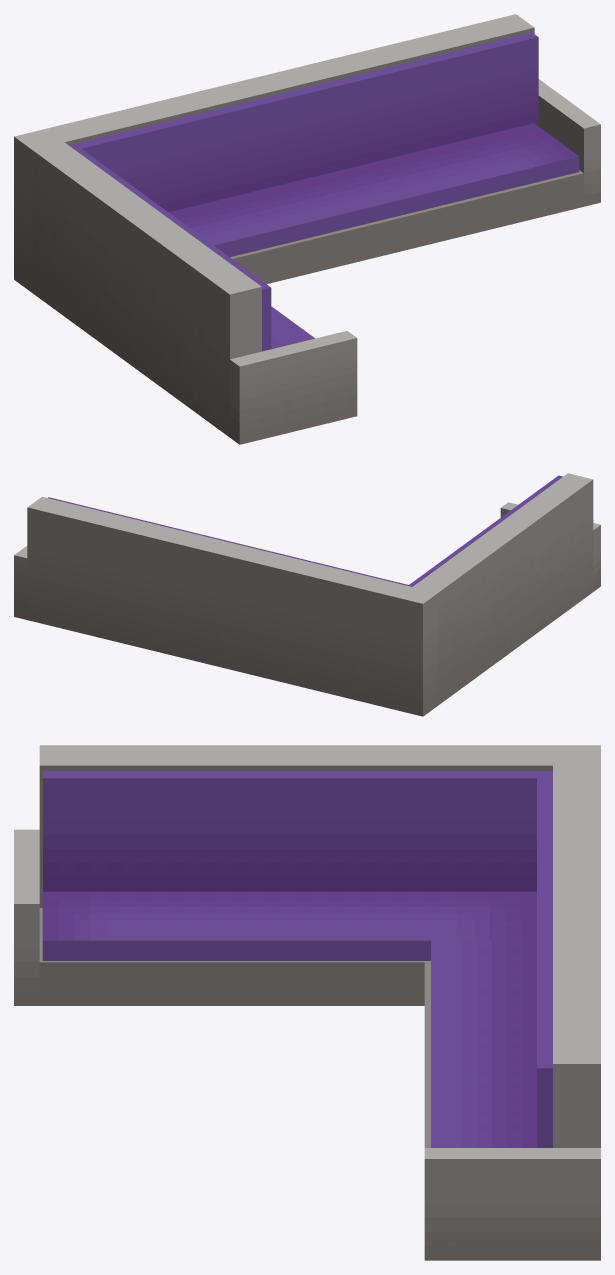
The model's file is Fancy Couch.gltf.
The picture shows the model from 3 angles, top to bottom: view 1: azimuth 30°, elevation 25°; view 2: azimuth 150°, elevation 25°; view 3: azimuth 270°, elevation 25°; orthographic projection. The views are drawn at different scales.
Parts seen in each view (by area): view 1: cube (×9); view 2: cube (×6); view 3: cube (×10).
Boxes of the visible parts, <box> form: cube (×9): <box>14,14,600,444</box>; cube (×6): <box>14,473,600,716</box>; cube (×10): <box>14,745,600,1260</box>.
Size of the model in its own units: 0.7594 by 0.2 by 0.5719.
1 material, 1 textured.
